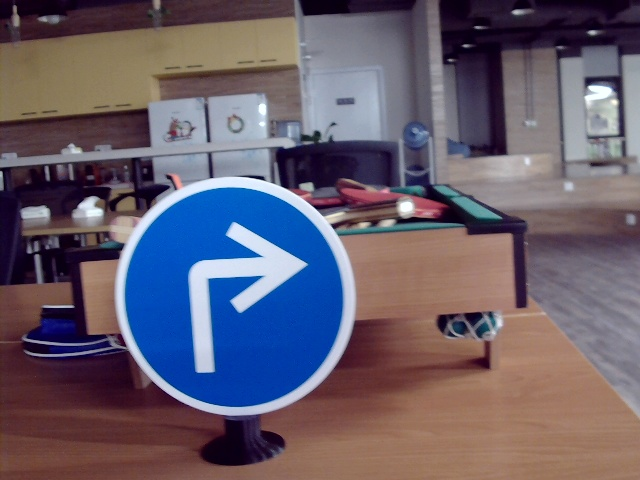turn_right: (169, 215, 309, 377)
